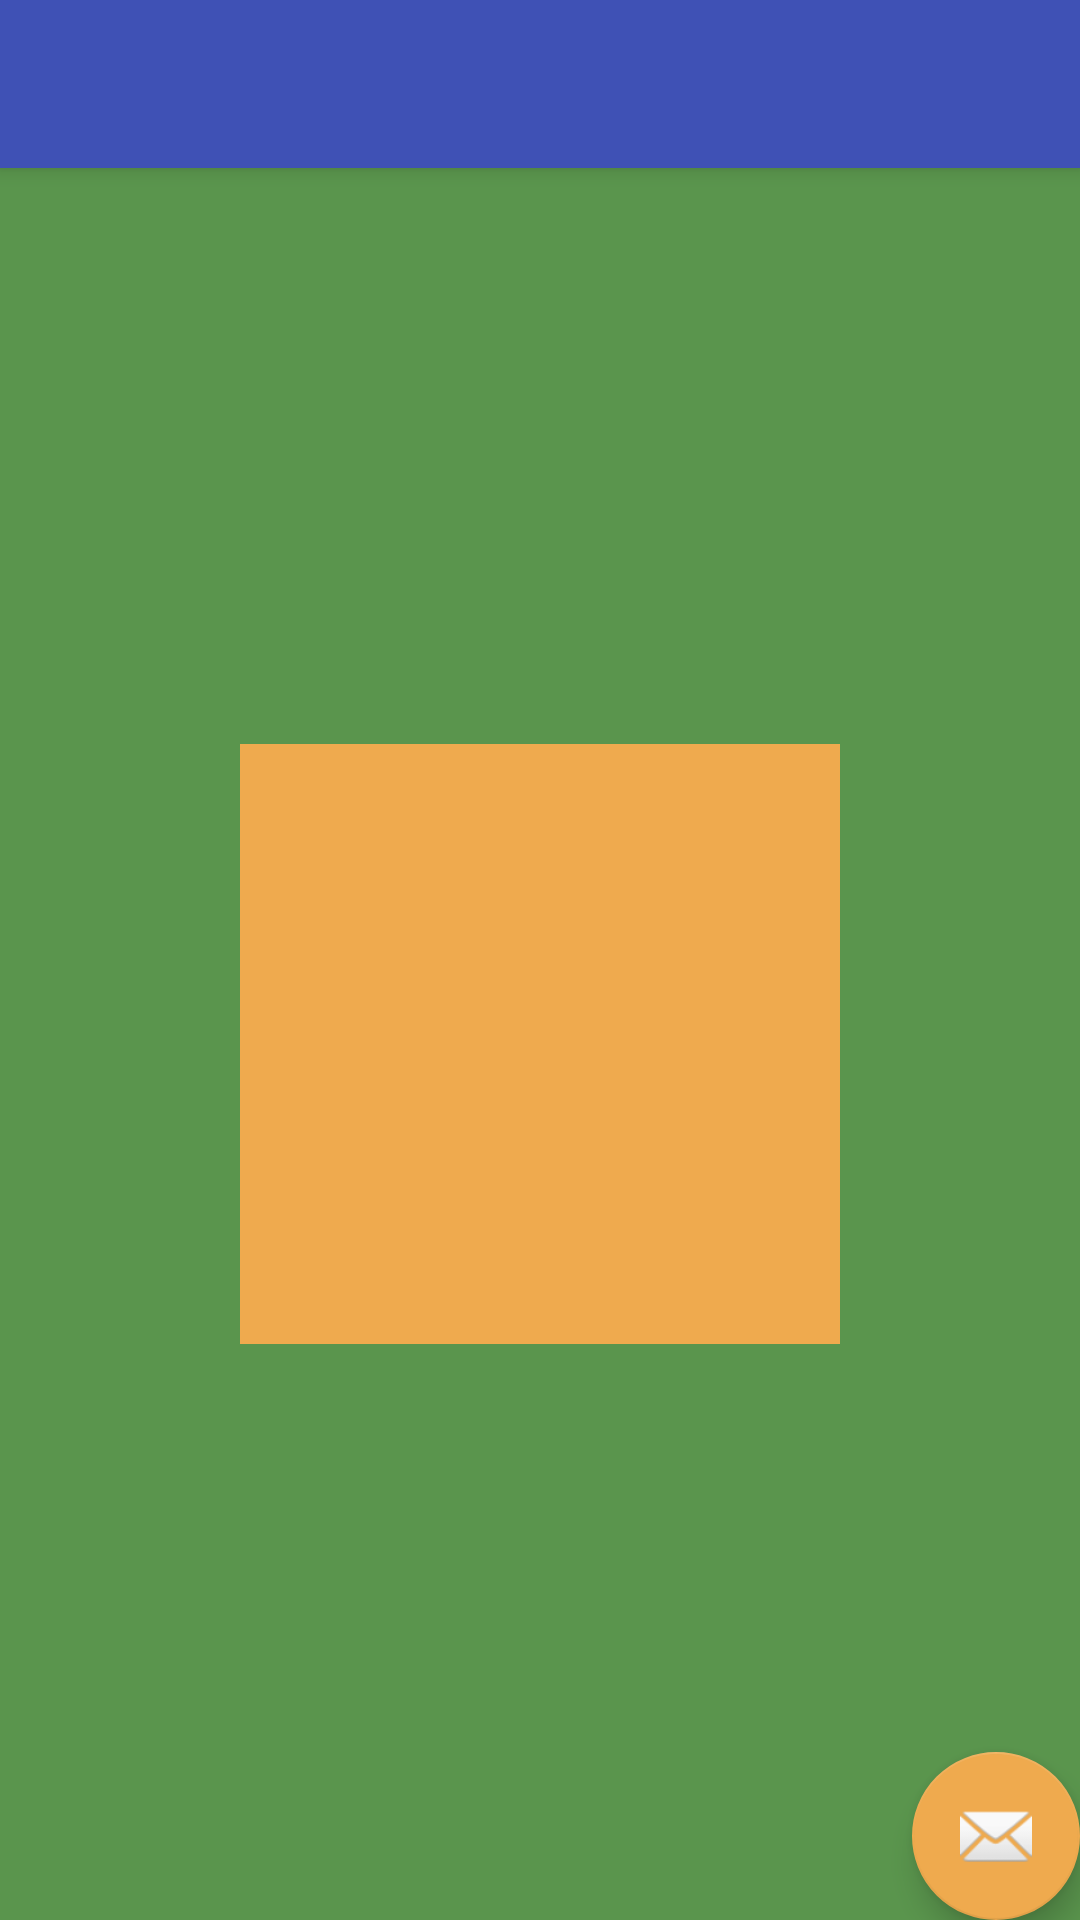

Locate icon controls on the screen. Image size 1080 × 1920, boxes as (x1, y1, x2, y2).
email: (912, 1752, 1080, 1920)
